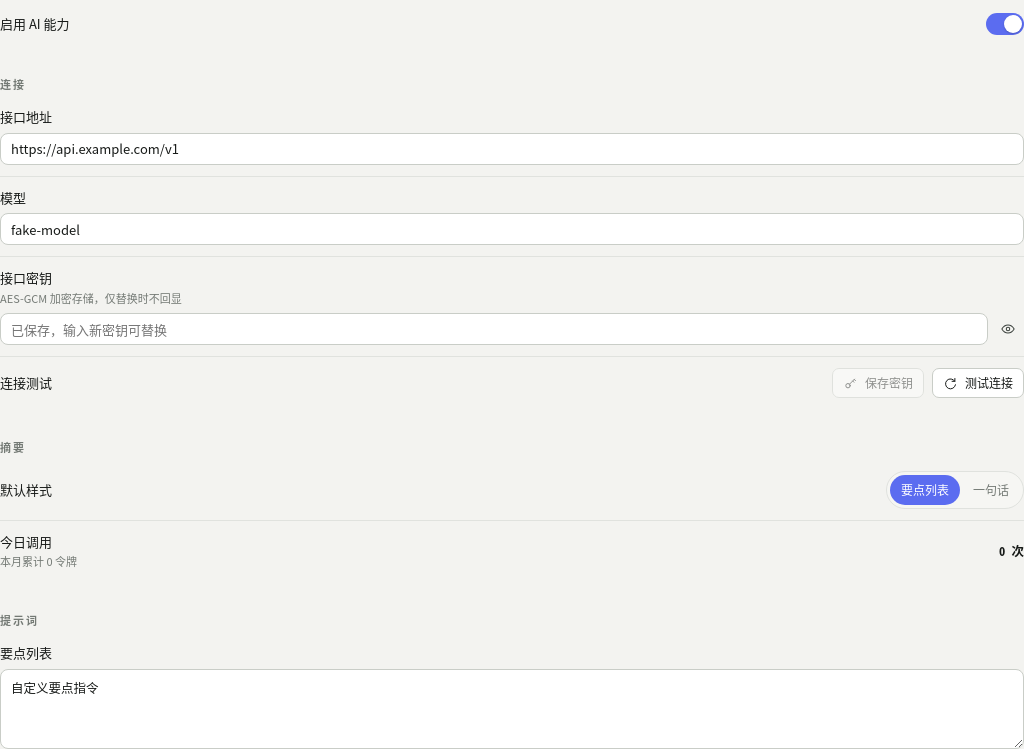
Test: AiSettings prompts › shows defaults and updates a prompt
Replace the text in the text box named "要点列表提示词" with "新的要点指令" at (512, 709), box [0,669,1023,748]
(page scrolled)
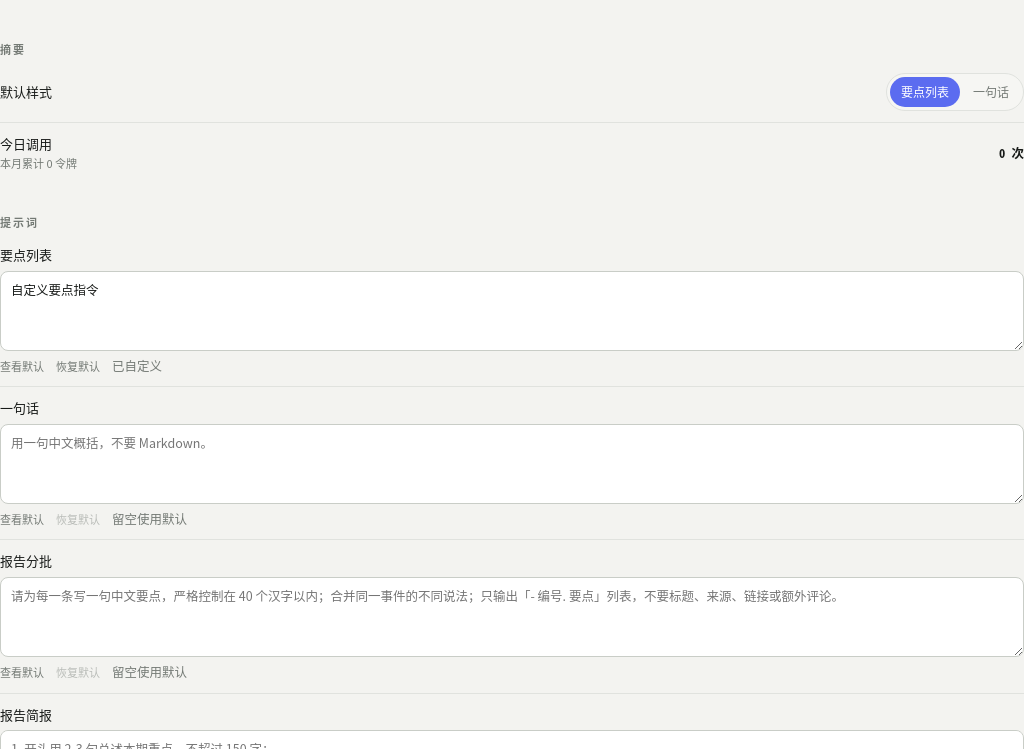
Click the button "查看默认" in the row of "已自定义".
click(22, 366)  # box [0,358,44,374]
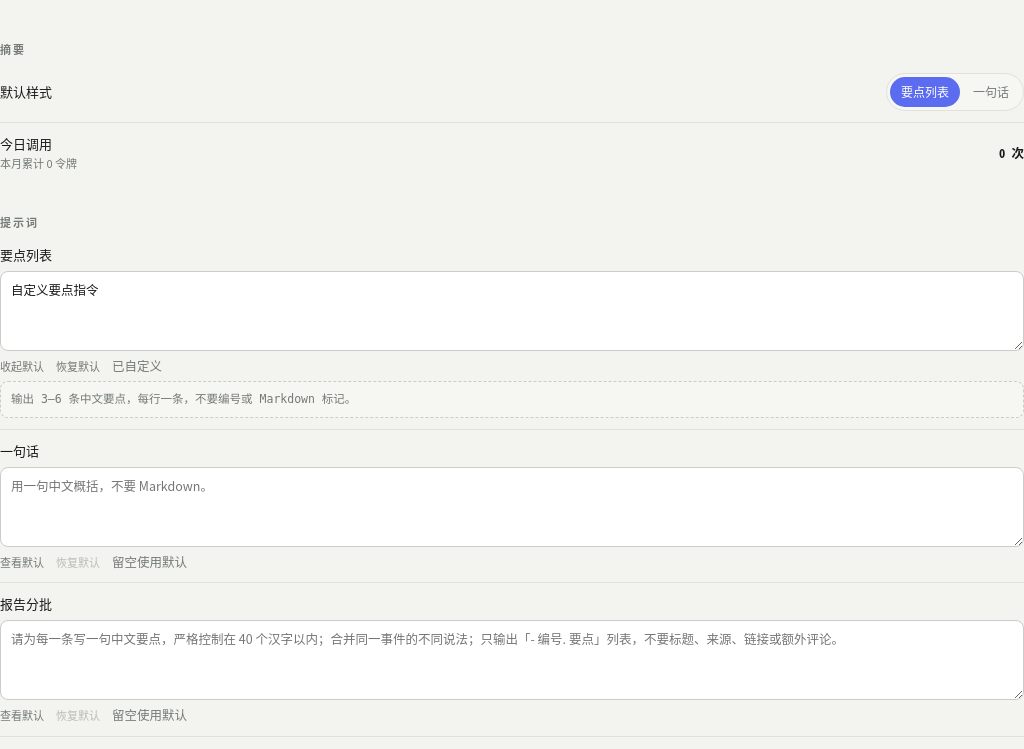
Result: the text "输出 3–6 条中文要点，每行一条，不要编号或 Markdown 标记。" is shown at [0,381,1023,418]
